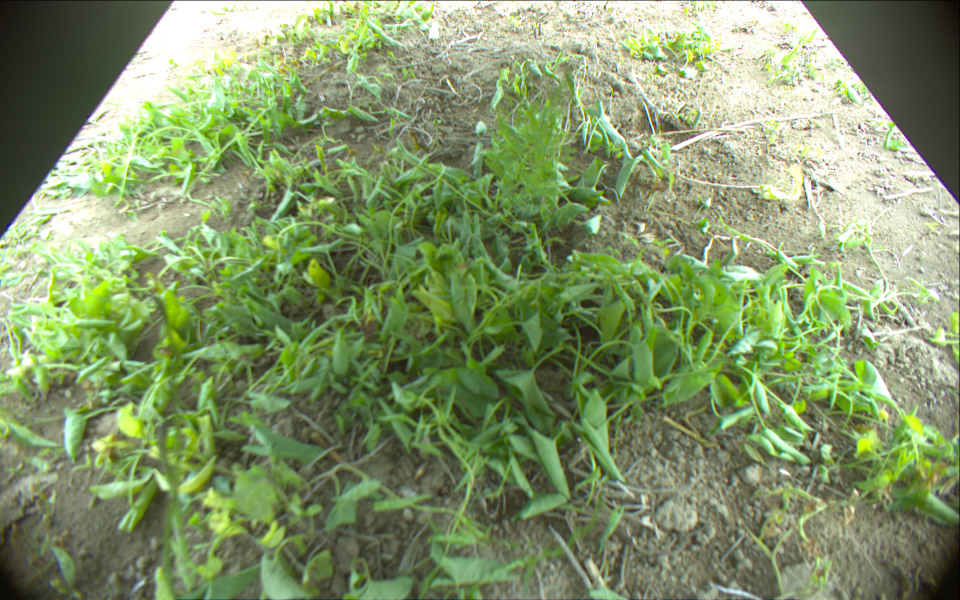aspa: (154, 421, 171, 600)
